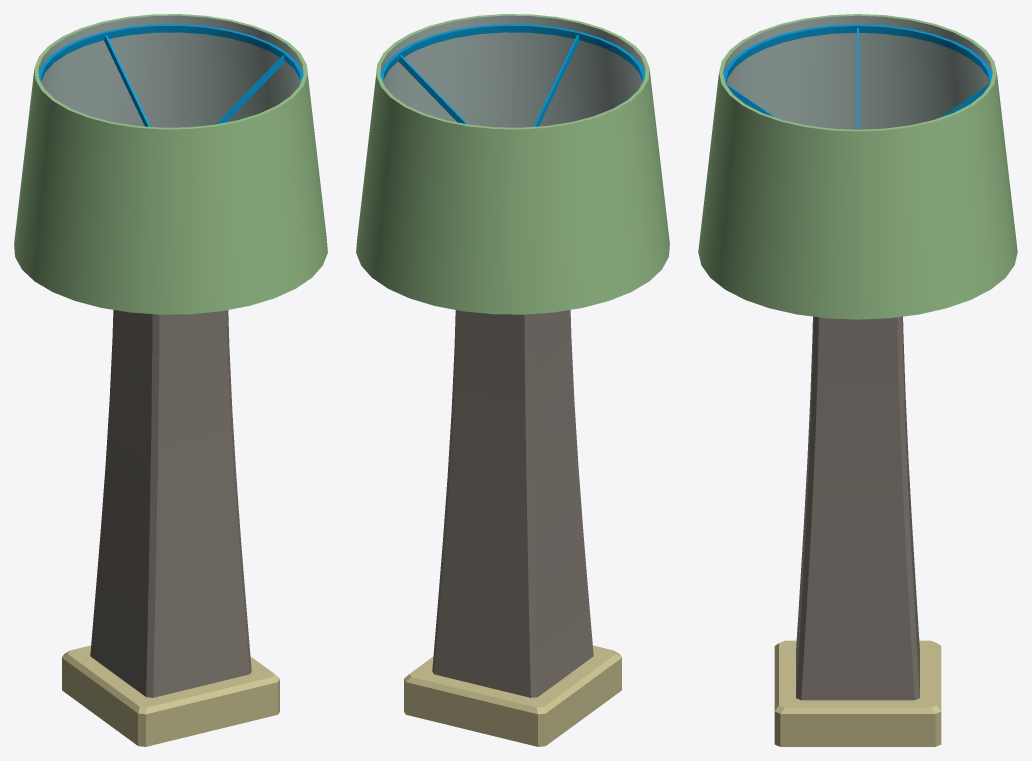
The model's file is lampCylTable.fbx.
The picture shows the model from 3 angles, left to right: view 1: azimuth 30°, elevation 25°; view 2: azimuth 150°, elevation 25°; view 3: azimuth 270°, elevation 25°; orthographic projection.
Visible parts, largest first — view 1: lampCylTable; view 2: lampCylTable; view 3: lampCylTable.
Boxes of the visible parts, x1,y1,x2,y2 form: lampCylTable: [14, 14, 327, 746]; lampCylTable: [356, 14, 669, 746]; lampCylTable: [698, 14, 1017, 746].
Size of the model in its own units: 36.05 by 79.57 by 36.05.
